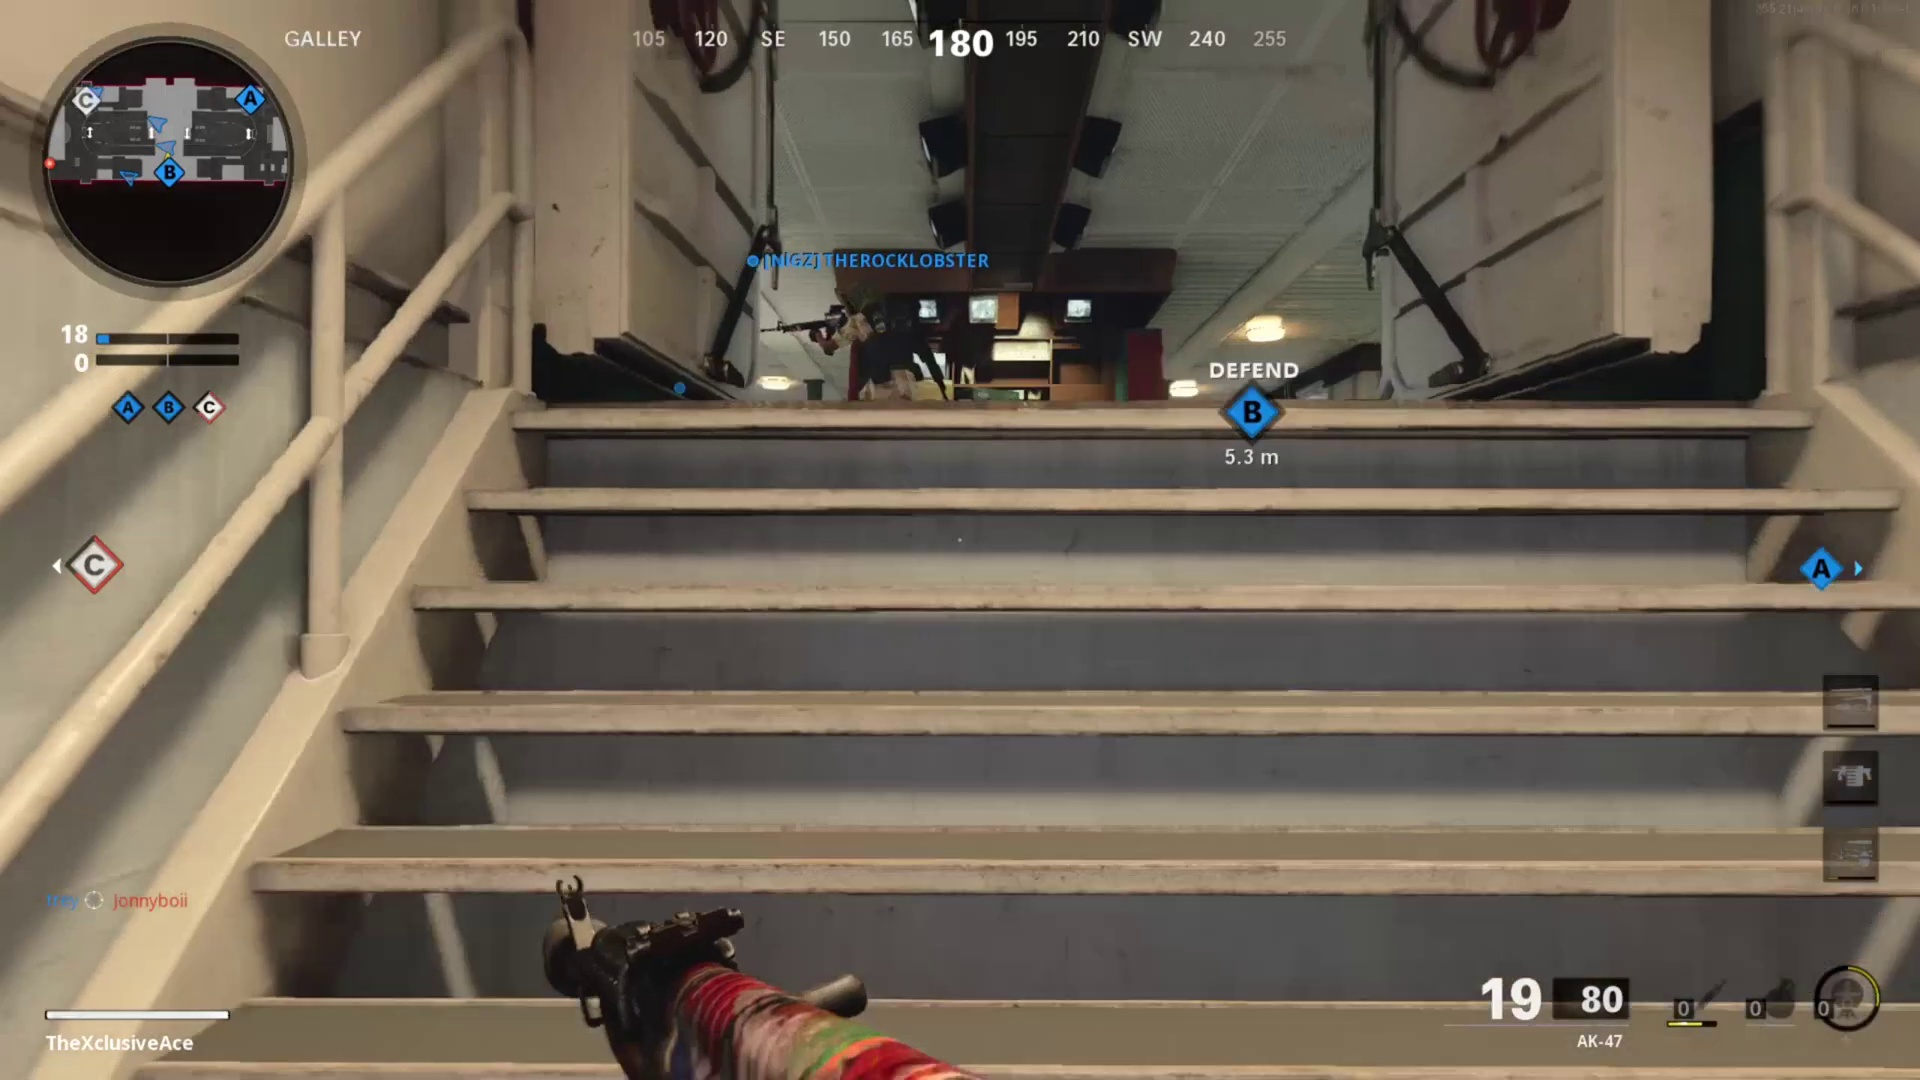person: (814, 303, 943, 398)
